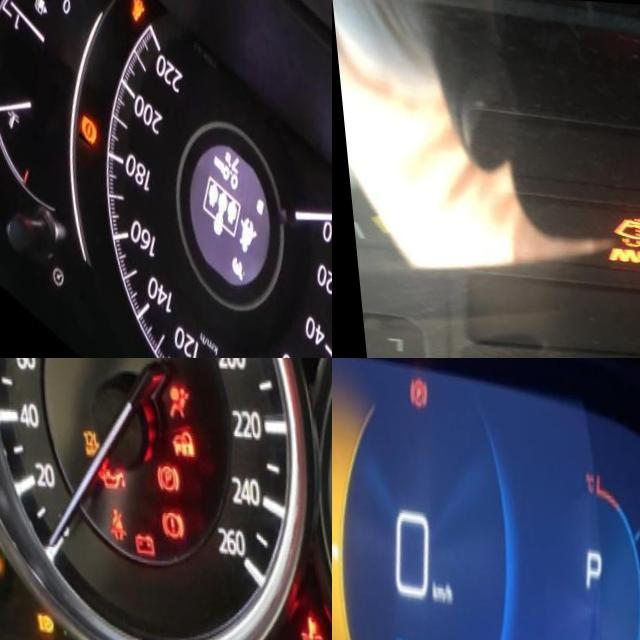High Engine Coolant Temperature: (287, 600, 316, 640)
Seat Belt: (99, 500, 121, 541)
Washer Fluid: (605, 211, 640, 246)
